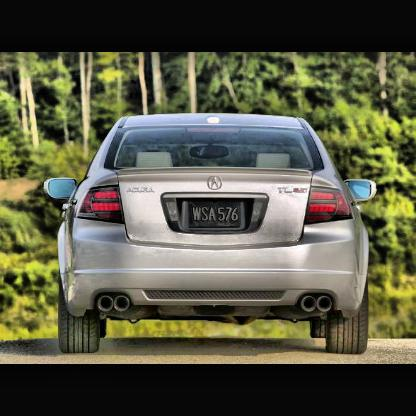Acura TL Type-S 2008: (42, 113, 377, 359)
